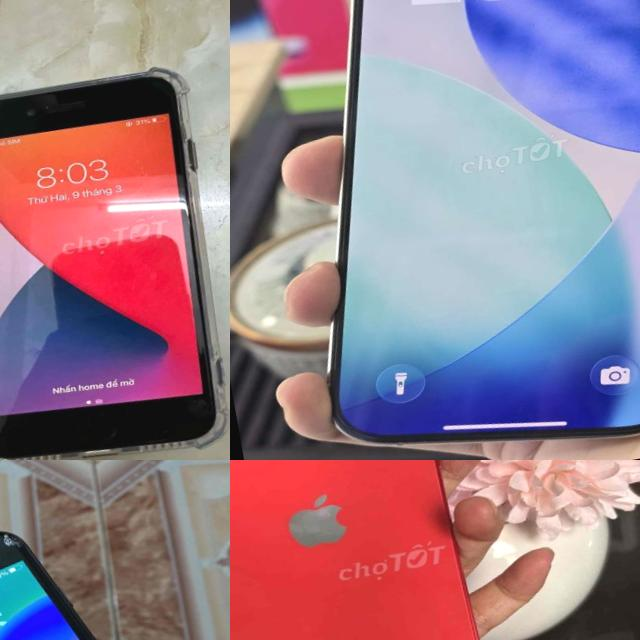gen_11: (230, 460, 504, 640)
gen_16: (328, 0, 640, 442)
gen_7_8: (0, 469, 230, 640)
physical_damage: (0, 520, 34, 563)
scratch: (0, 56, 230, 460)
